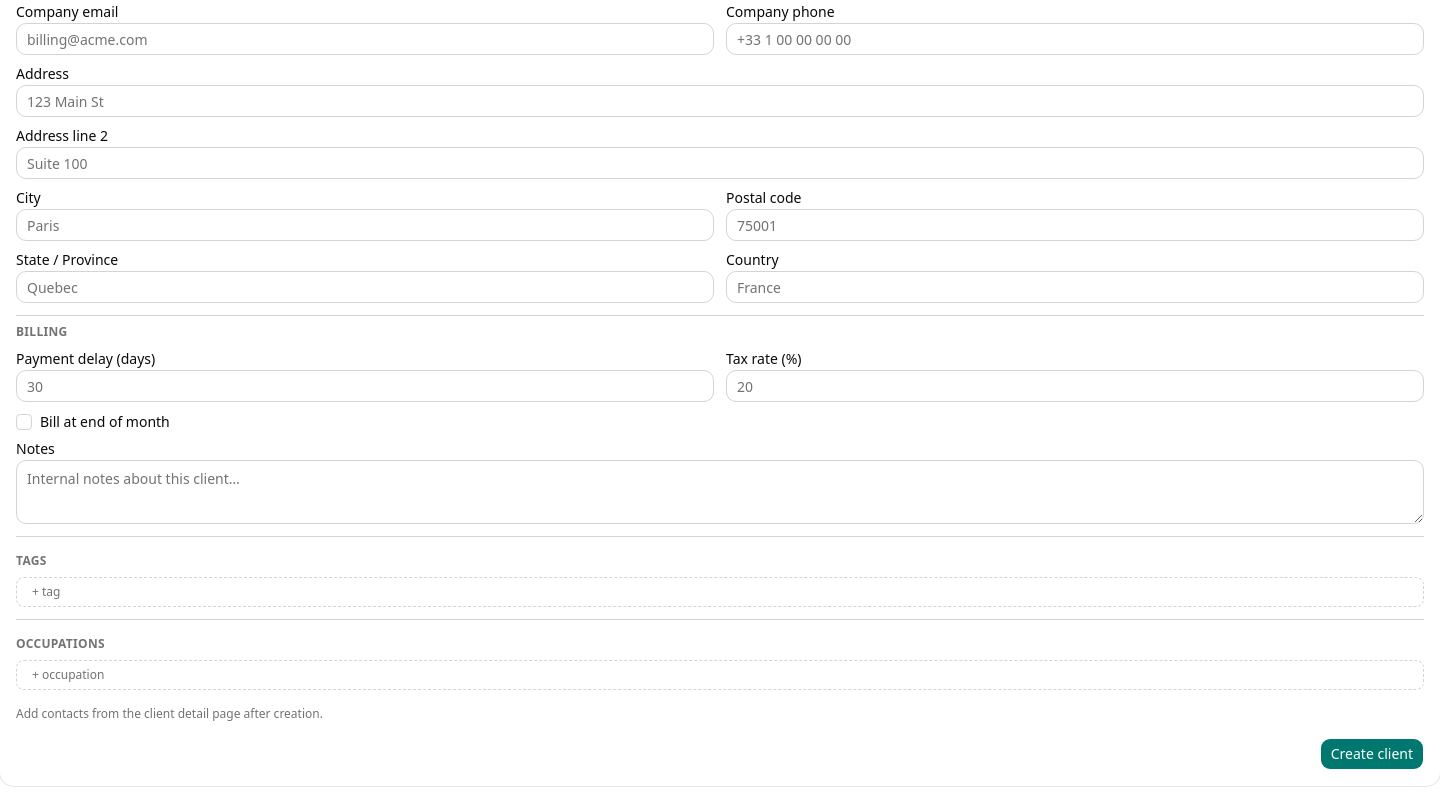
it: NewClientForm › shows a validation error and does not submit when the company name is blank
The width and height of the screenshot is (1440, 810).
(page scrolled)
Click the button "Create client" at [1372, 754], box [1320, 738, 1424, 770]
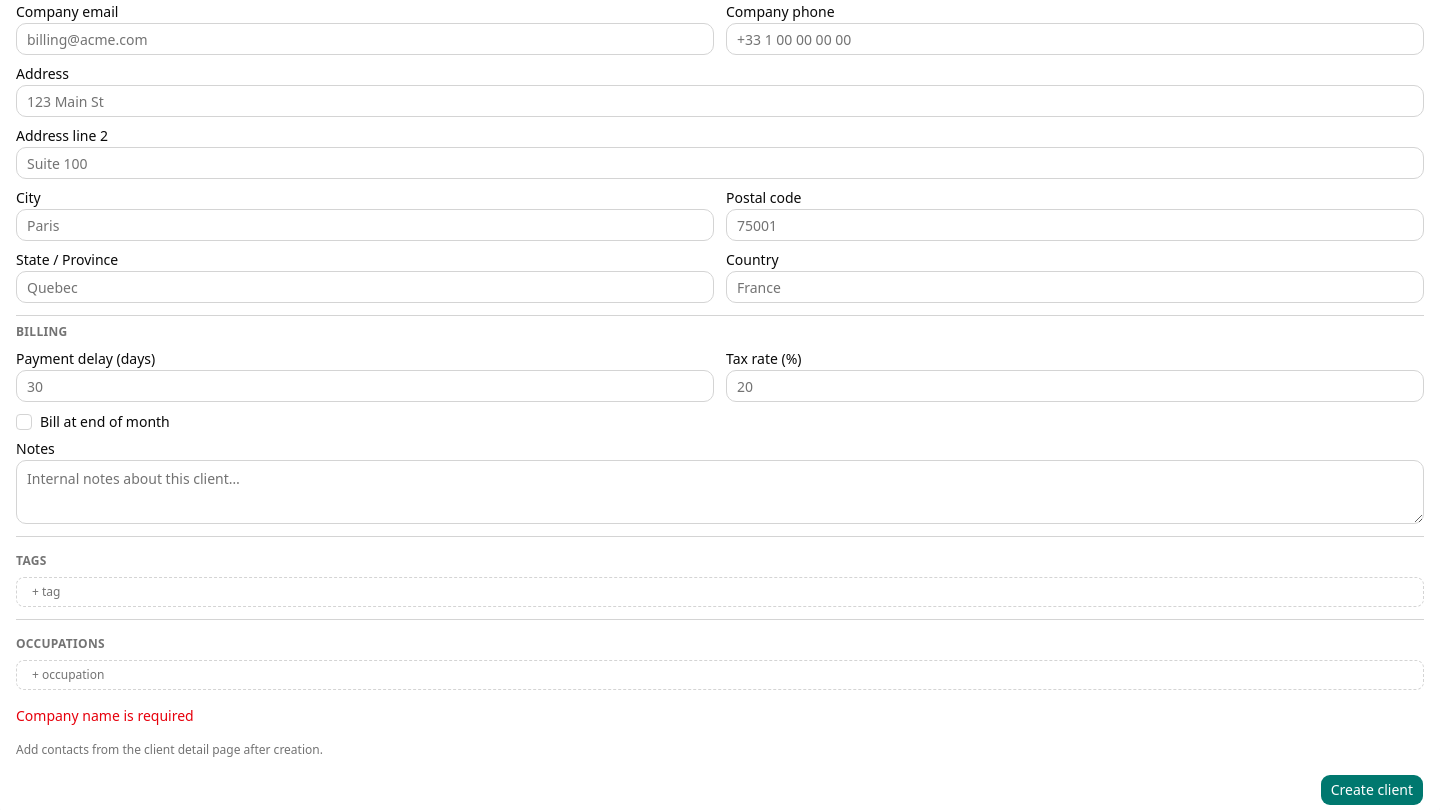
Result: the text "Company name is required" is shown at [16, 706, 194, 725]
